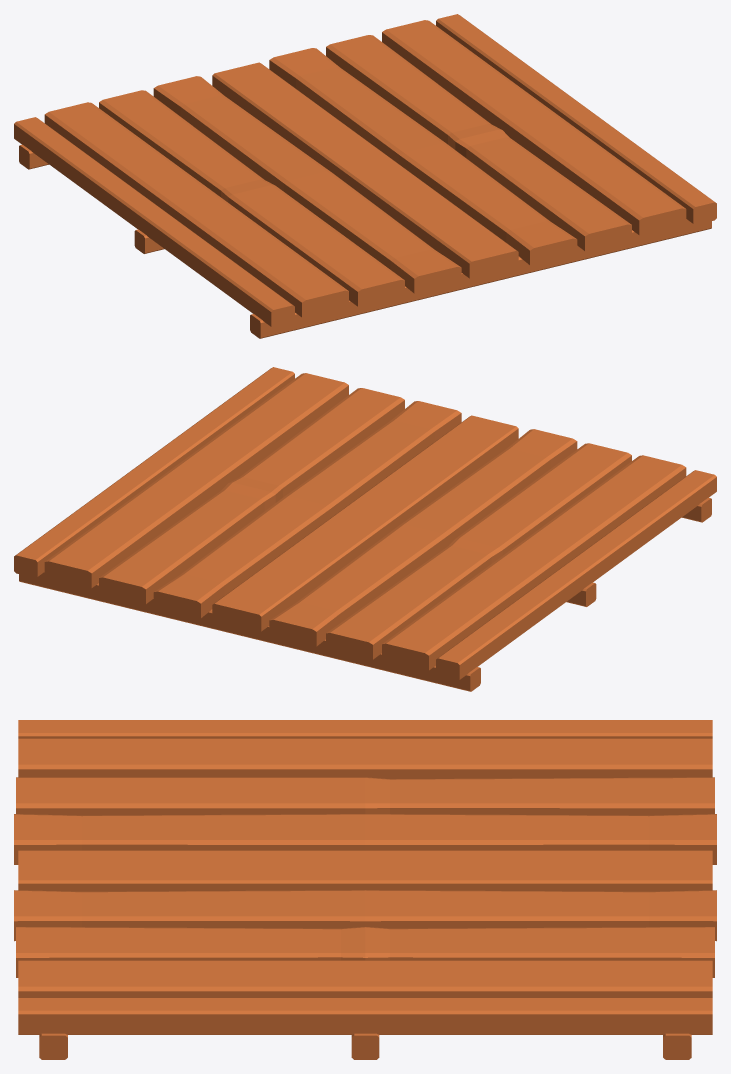
File: Wood Floor 4.glb
3 renders of one model, top to bottom at view 1: azimuth 30°, elevation 25°; view 2: azimuth 150°, elevation 25°; view 3: azimuth 270°, elevation 25°, orthographic. The views are drawn at different scales.
Parts seen in each view (by area): view 1: WoodFloor2; view 2: WoodFloor2; view 3: WoodFloor2.
Boxes of the visible parts, left/top/right/bottom form: WoodFloor2: left=14, top=14, right=716, bottom=338; WoodFloor2: left=14, top=367, right=716, bottom=691; WoodFloor2: left=14, top=720, right=716, bottom=1059.
Bounding box in the file's own units: 2 × 0.1523 × 2.
